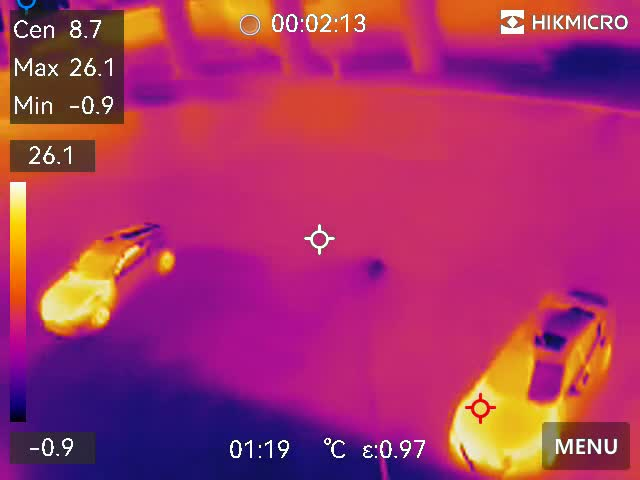smallCar: (455, 289, 621, 480), (34, 219, 175, 330)
